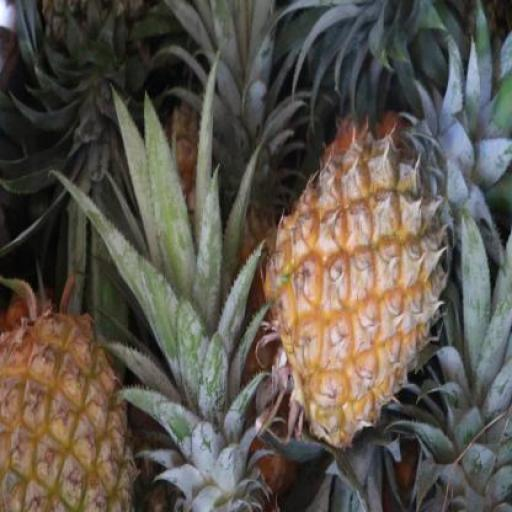------------------------------: (0, 316, 145, 511)
Pineapple - v8 v1: (262, 122, 464, 442)
